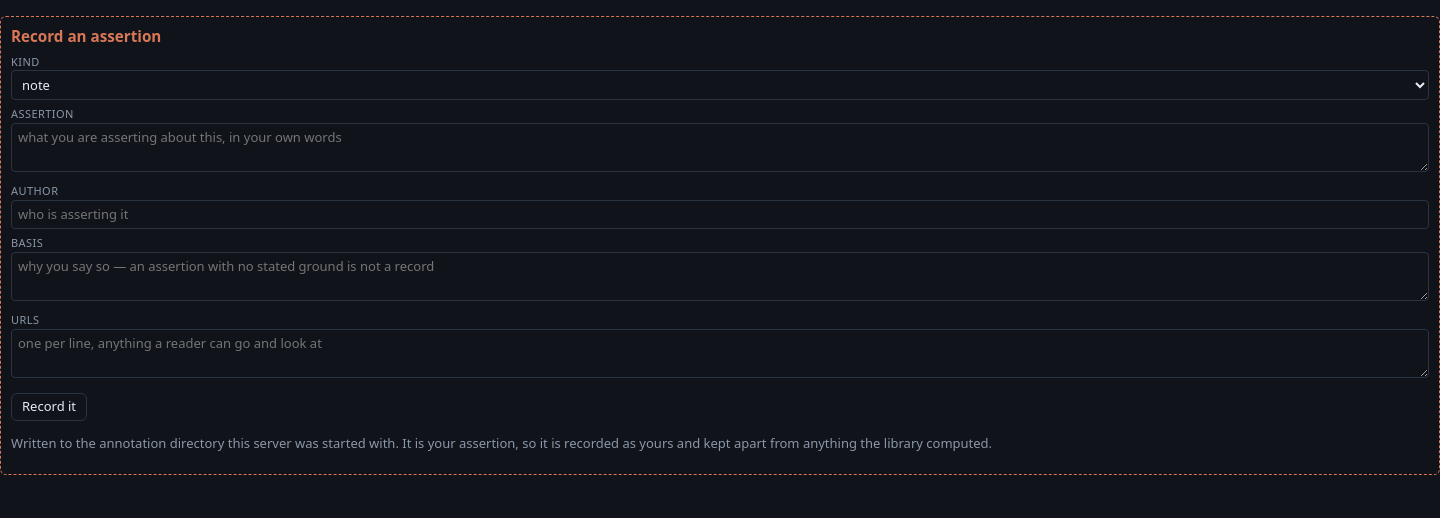
Test: what the form refuses › refuses a record with no author, and names the assertion too when that is missing
Replace the text in the text box labelled "basis" with "listed on the venue's own deposit page": (720, 276) left=11, top=252, right=1429, bottom=301
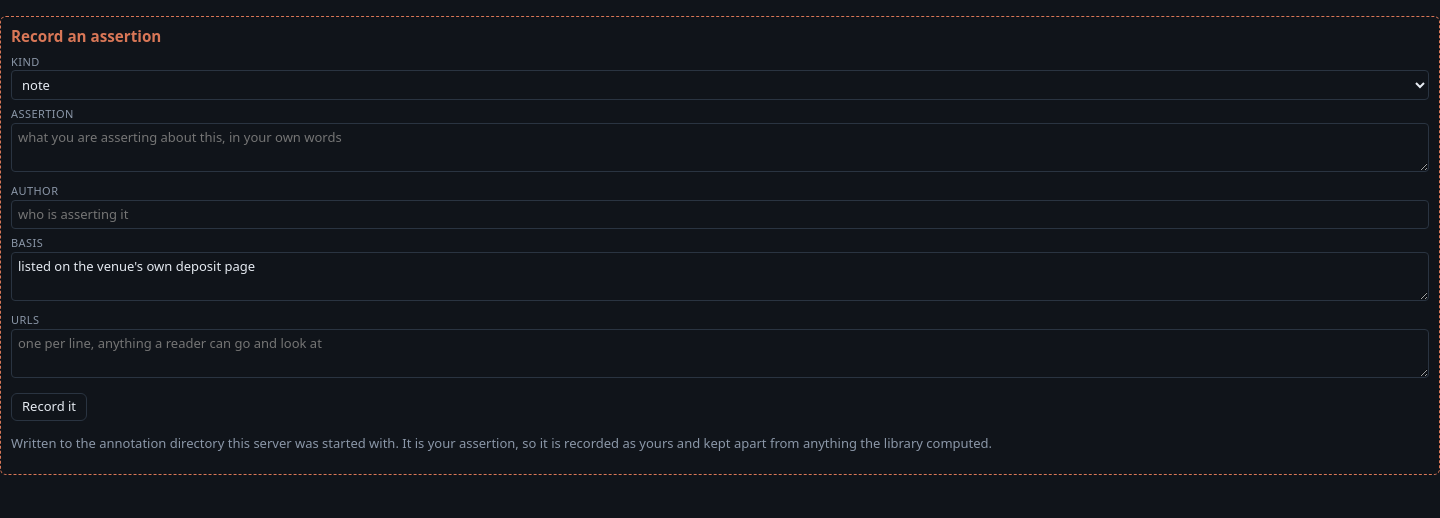
Click the button "Record it": click(49, 407) left=11, top=393, right=87, bottom=421
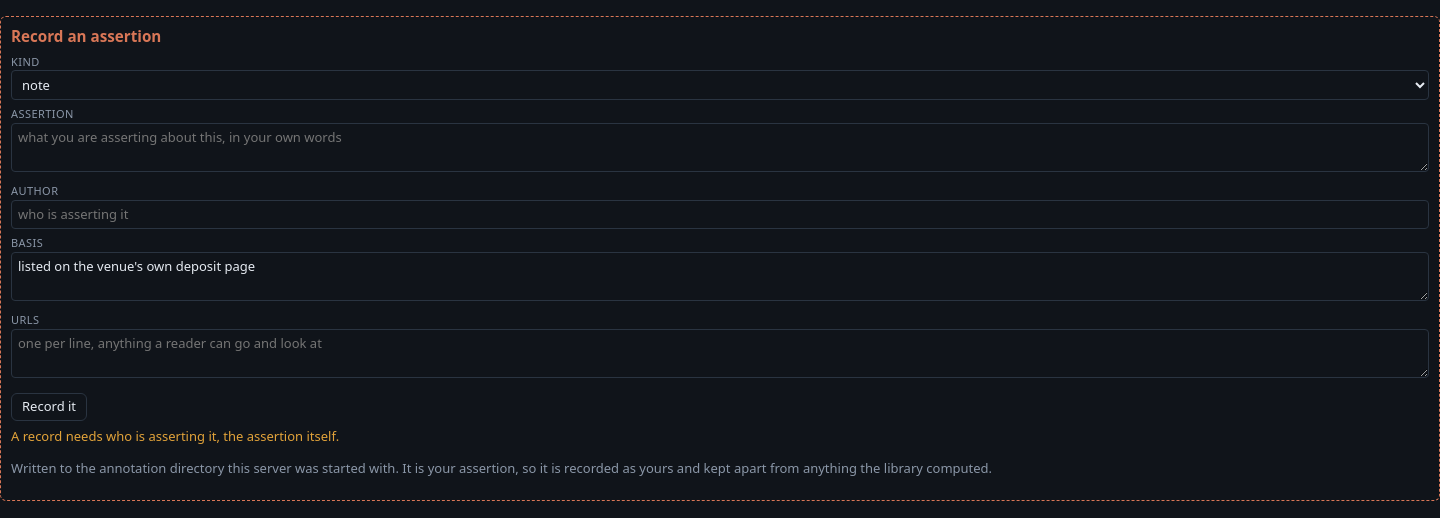
Expected: the text "A record needs who is asserting it, the assertion itself." is shown, left=11, top=427, right=339, bottom=445
